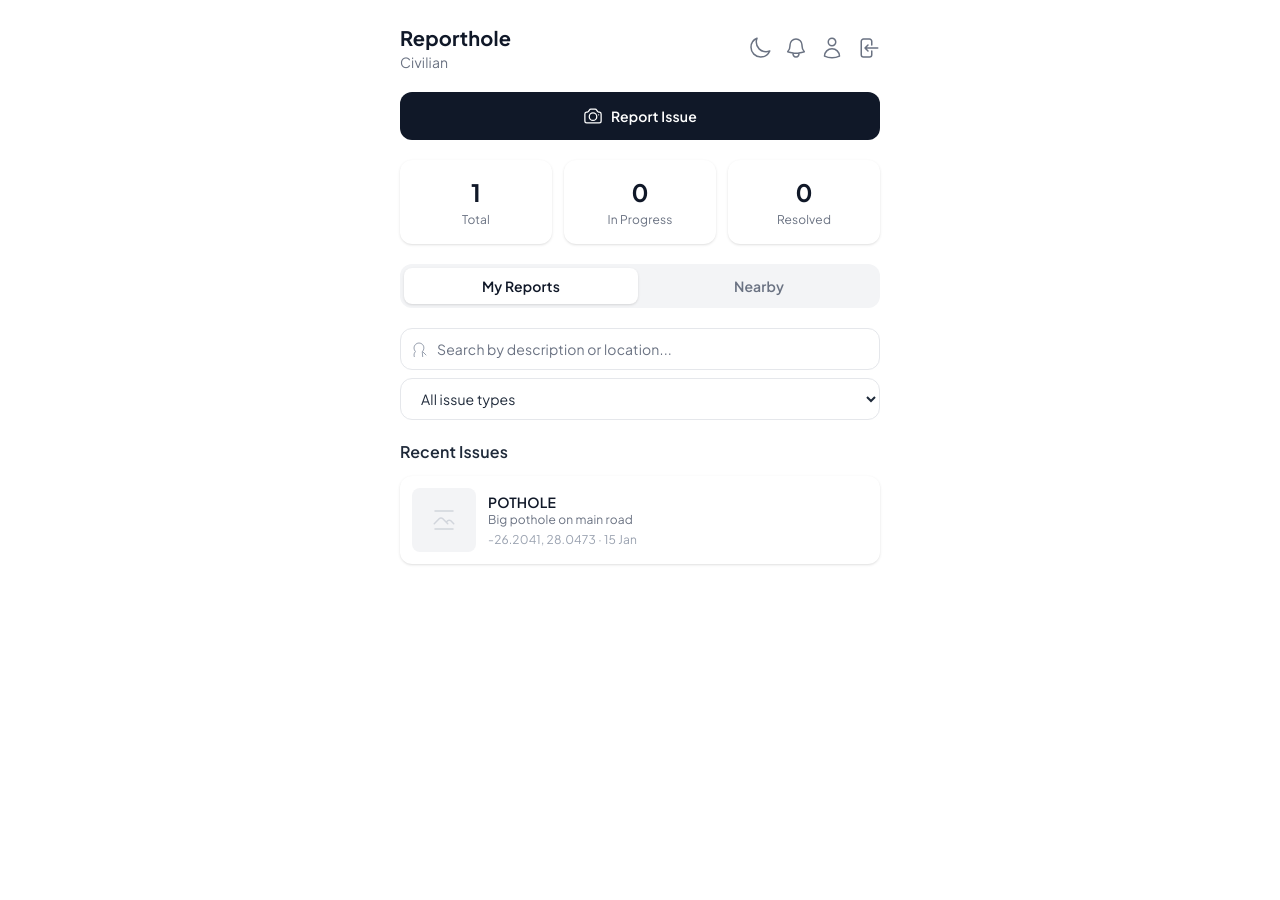
Test: CivilianDashboard › report modal › opens the mode chooser when Report Issue is clicked
This screenshot has width=1280, height=900.
Click the button "Report Issue".
click(640, 116)  # box [400,92,880,140]
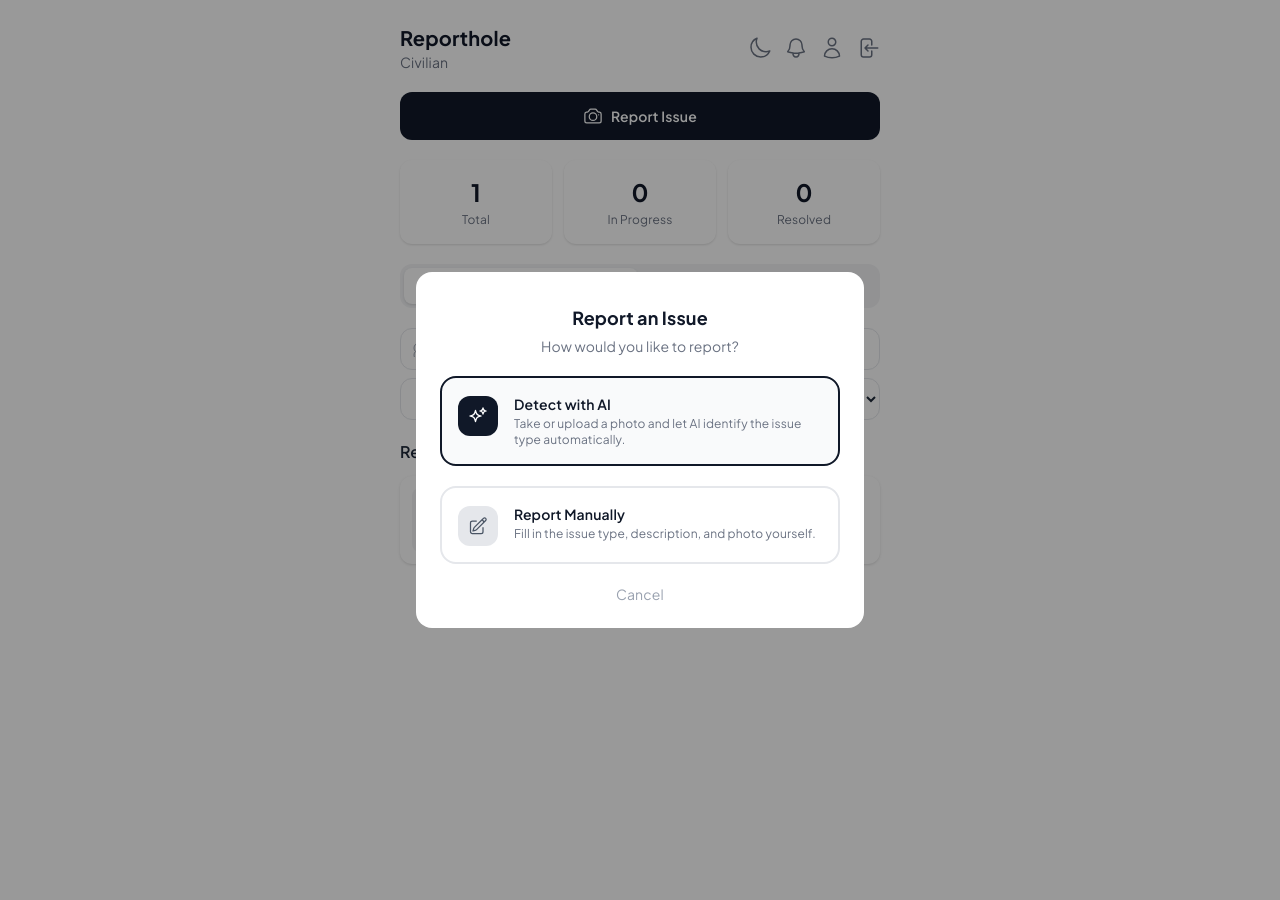
Check: the heading "Report an Issue" is shown, box [572,304,708,332]
Check: the text "Detect with AI" is shown, box [514,395,611,413]
Check: the text "Report Manually" is shown, box [514,505,625,523]
